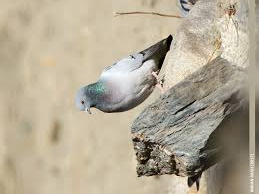pigeon: (75, 32, 174, 116)
